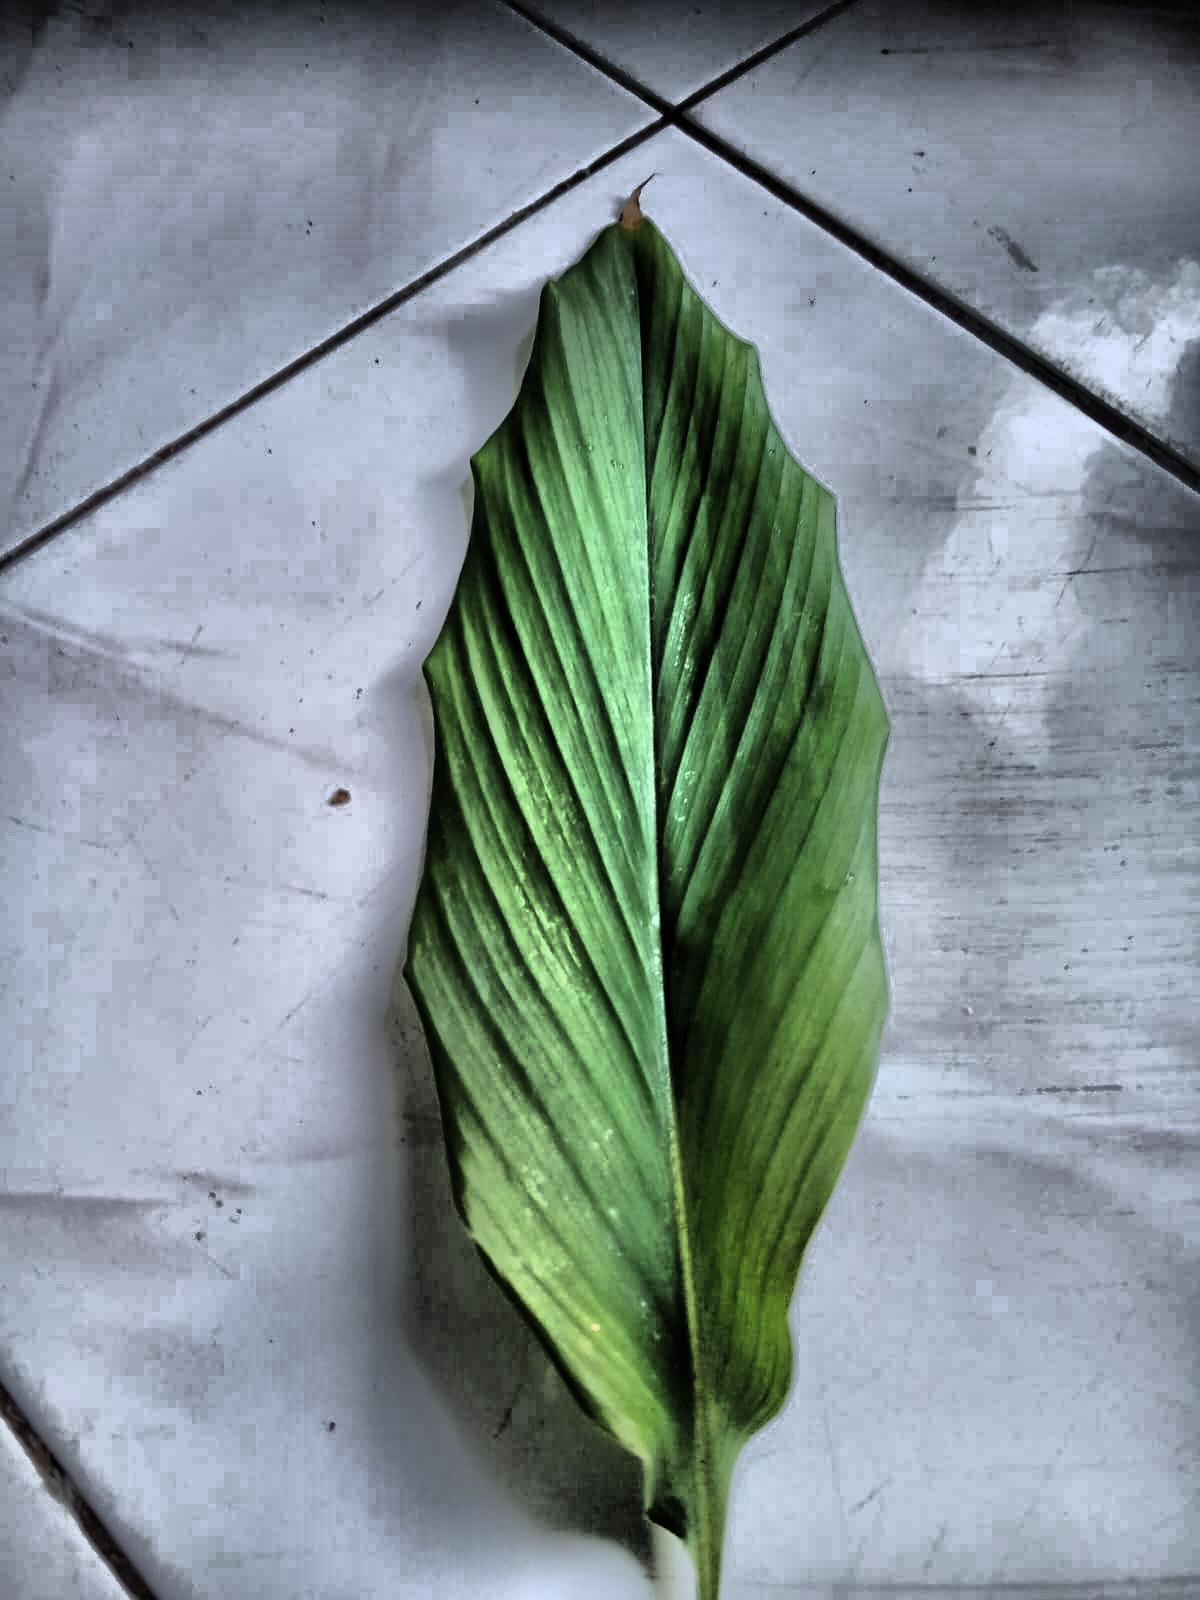daun kunyit: (407, 215, 887, 1599)
